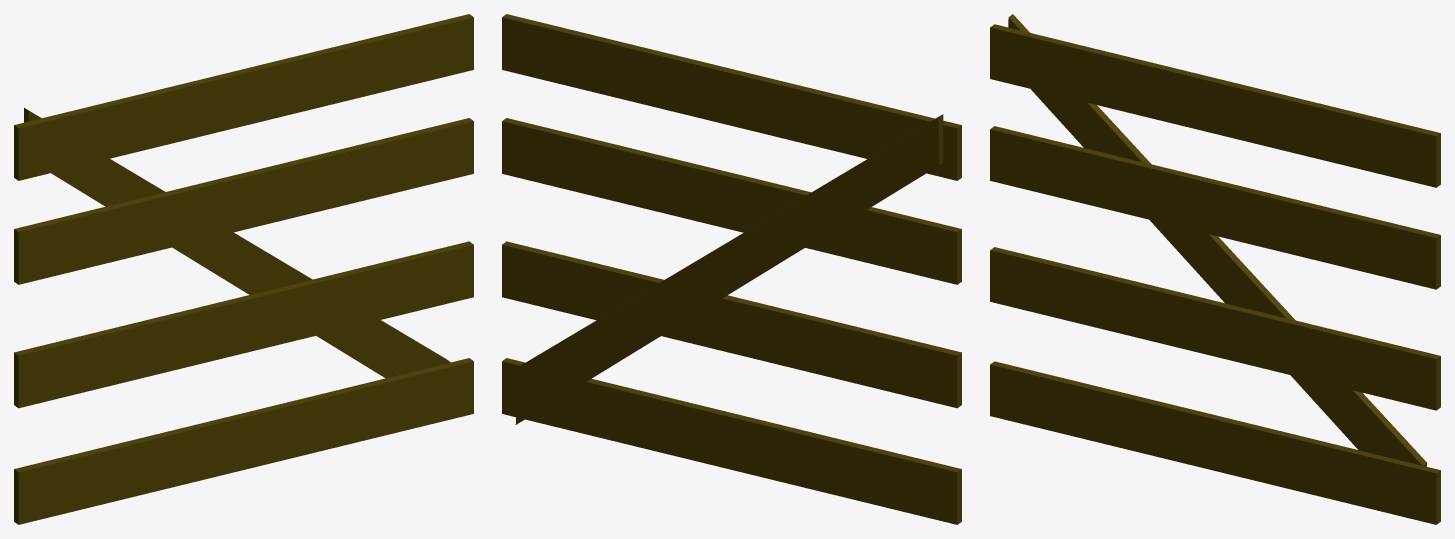
Rendered from Wooden Fence NoPosts.fbx.
The picture shows the model from 3 angles, left to right: view 1: azimuth 30°, elevation 25°; view 2: azimuth 150°, elevation 25°; view 3: azimuth 330°, elevation 25°; orthographic projection. The views are drawn at different scales.
Visible parts, largest first — view 1: pCube23; view 2: pCube23; view 3: pCube23.
Boxes of the visible parts, <box> form: pCube23: <box>14,14,473,524</box>; pCube23: <box>502,14,961,524</box>; pCube23: <box>990,14,1440,524</box>.
Size of the model in its own units: 2.44 by 2.1 by 0.0824.
